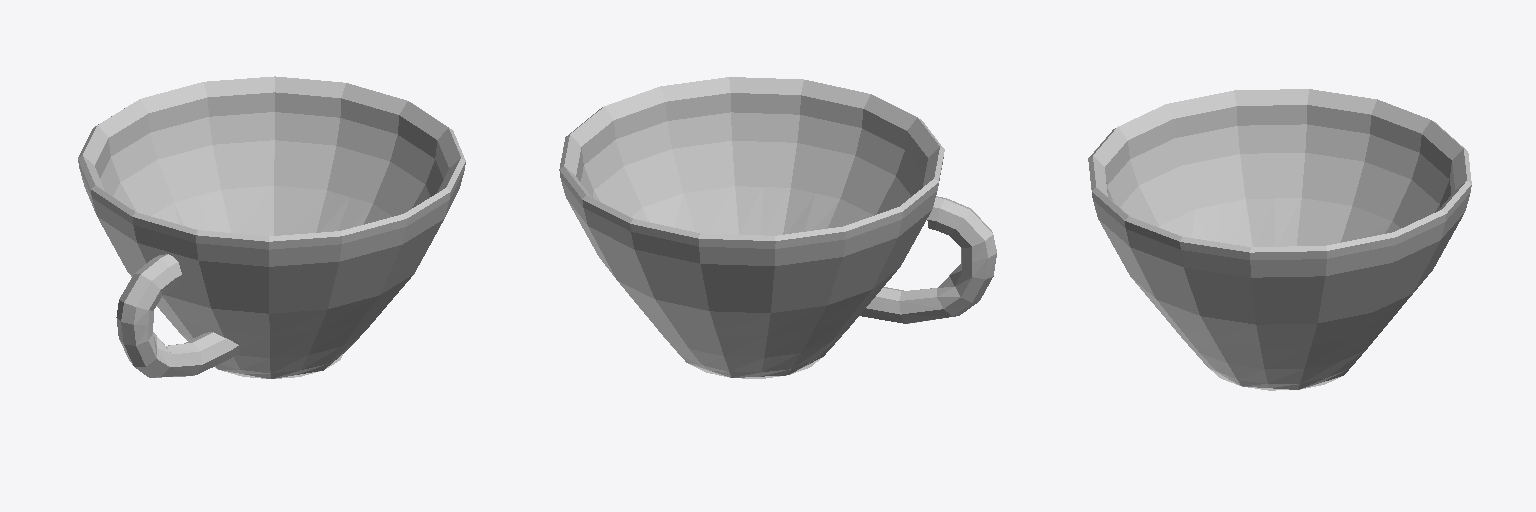
Rendered from Teacup.obj.
3 views of the same model, side by side, from view 1: azimuth 30°, elevation 25°; view 2: azimuth 150°, elevation 25°; view 3: azimuth 270°, elevation 25° (orthographic).
Visible parts, largest first — view 1: _Free_Form1, _Free_Form_11; view 2: _Free_Form1, _Free_Form_11; view 3: _Free_Form1.
Boxes of the visible parts, x1=… form: _Free_Form1: x1=78, y1=76, x2=465, y2=378; _Free_Form_11: x1=116, y1=254, x2=239, y2=377; _Free_Form1: x1=559, y1=77, x2=944, y2=377; _Free_Form_11: x1=860, y1=196, x2=996, y2=323; _Free_Form1: x1=1088, y1=89, x2=1471, y2=389.
Size of the model in its own units: 7.12 by 3.58 by 6.5.